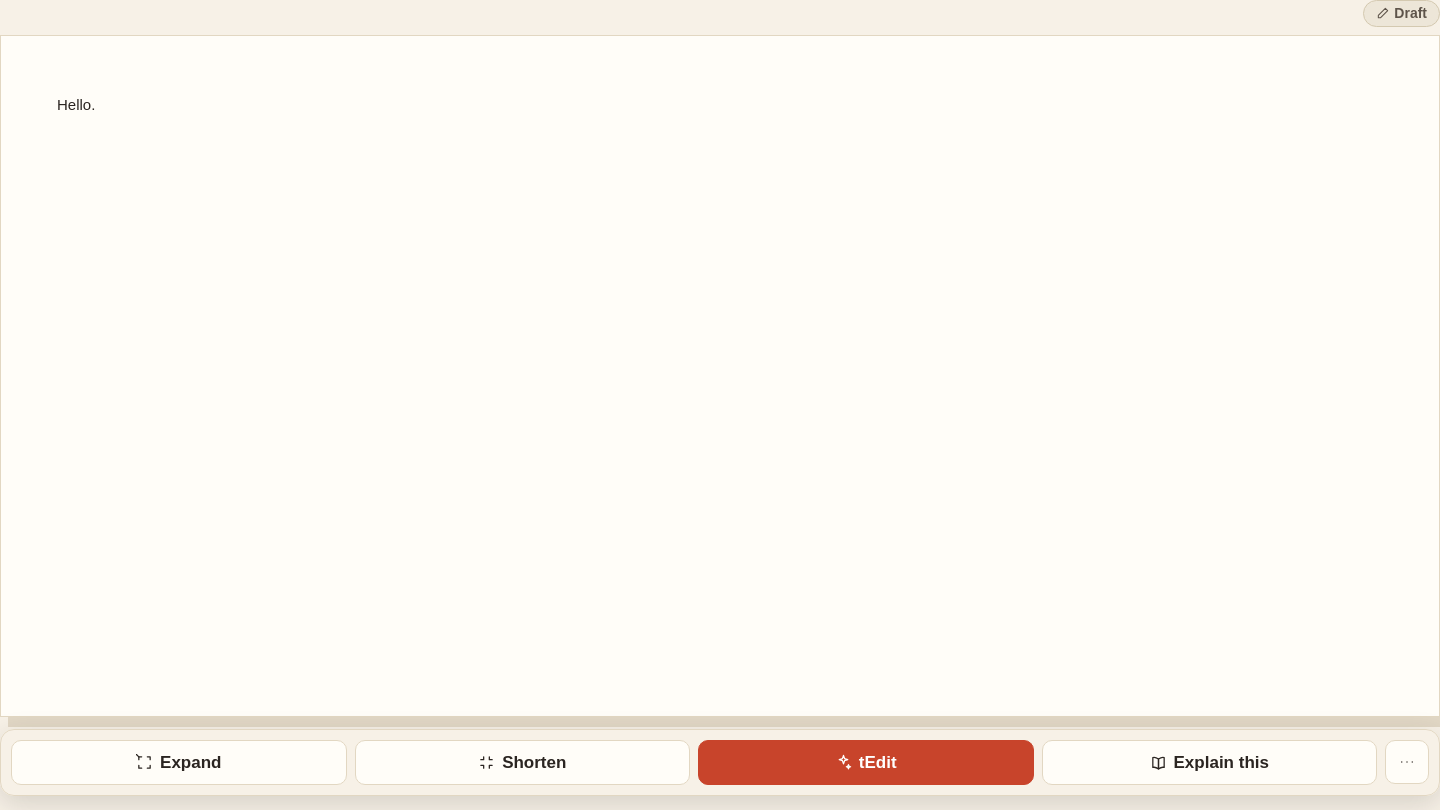
Test case: SectionEditor revision-bound TED edits › opens a completed section proposal in a focused modal without applying it
The image size is (1440, 810).
Click the button "tEdit" at (866, 762), box [698, 740, 1034, 785]
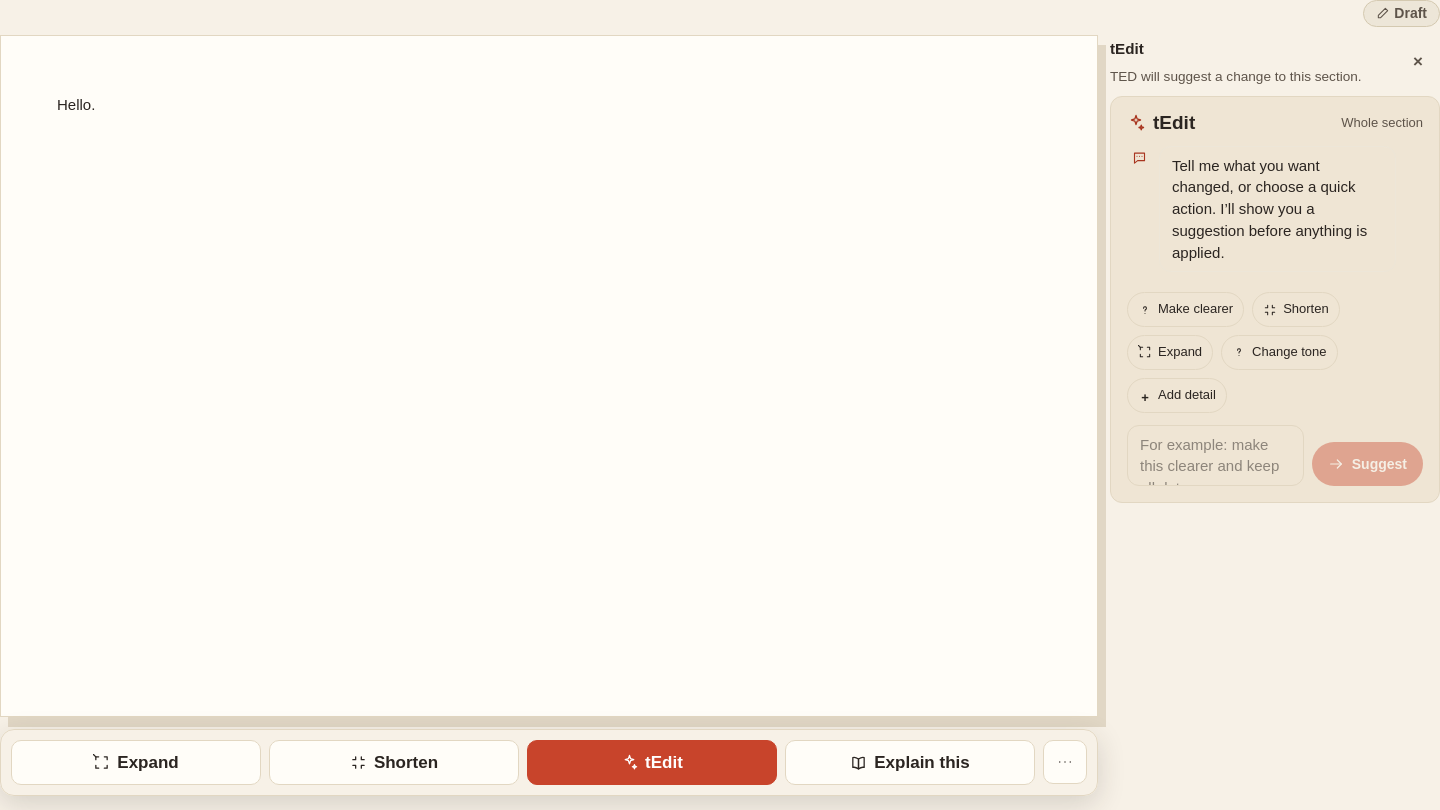
Click the button "Make clearer" at (1186, 310), box [1127, 292, 1244, 327]
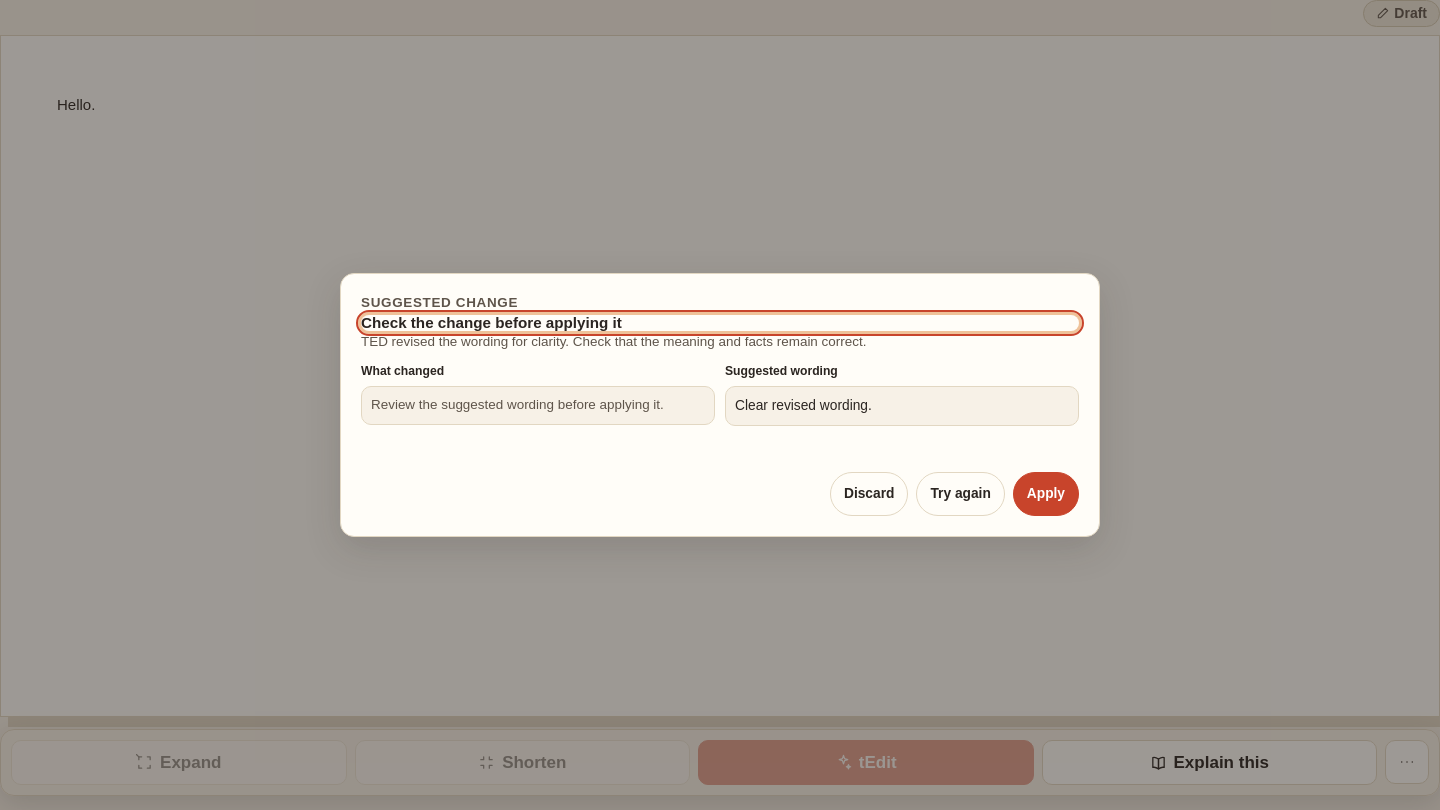
Check: the text "Clear revised wording." is shown, box [725, 386, 1079, 426]
